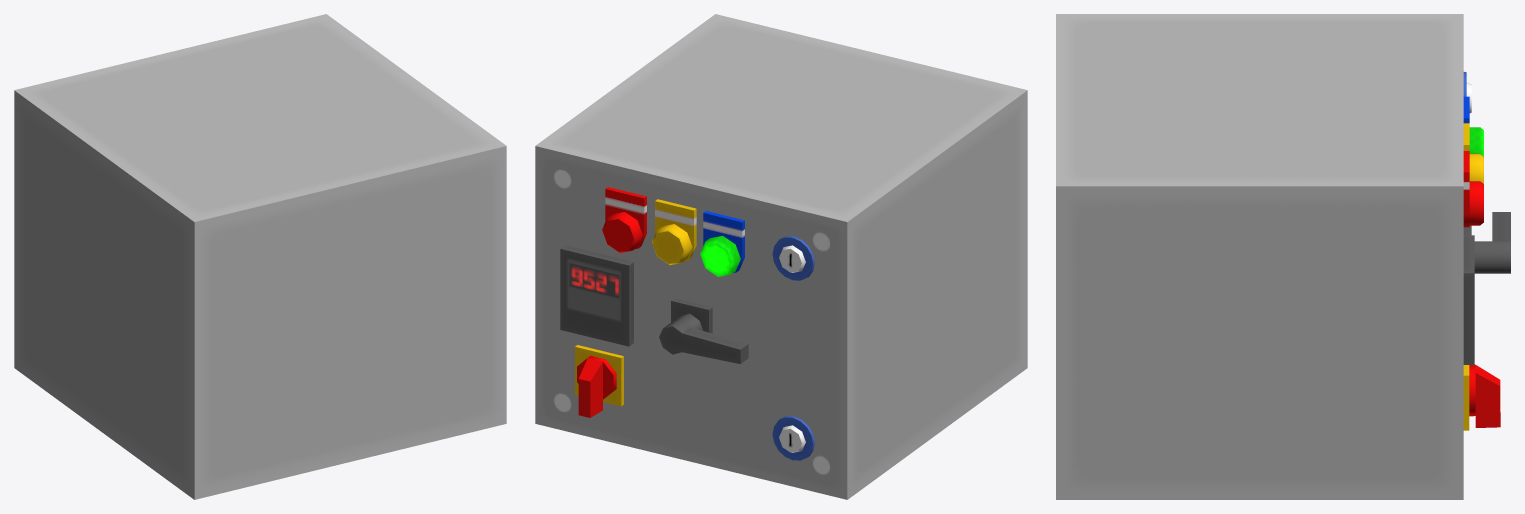
File: Pfb_ElectricControlBox__2.fbx
3 views of the same model, side by side, from view 1: azimuth 30°, elevation 25°; view 2: azimuth 150°, elevation 25°; view 3: azimuth 270°, elevation 25° (orthographic). The views are drawn at different scales.
Visible parts, largest first — view 1: MAT_ElectricControlBox; view 2: MAT_ElectricControlBox; view 3: MAT_ElectricControlBox.
Boxes of the visible parts, left/top/right/bottom form: MAT_ElectricControlBox: left=14, top=14, right=506, bottom=499; MAT_ElectricControlBox: left=535, top=14, right=1027, bottom=499; MAT_ElectricControlBox: left=1056, top=14, right=1510, bottom=499.
Bounding box in the file's own units: 1 × 0.85 × 1.12.
Materials: 1 (1 with a texture image).
